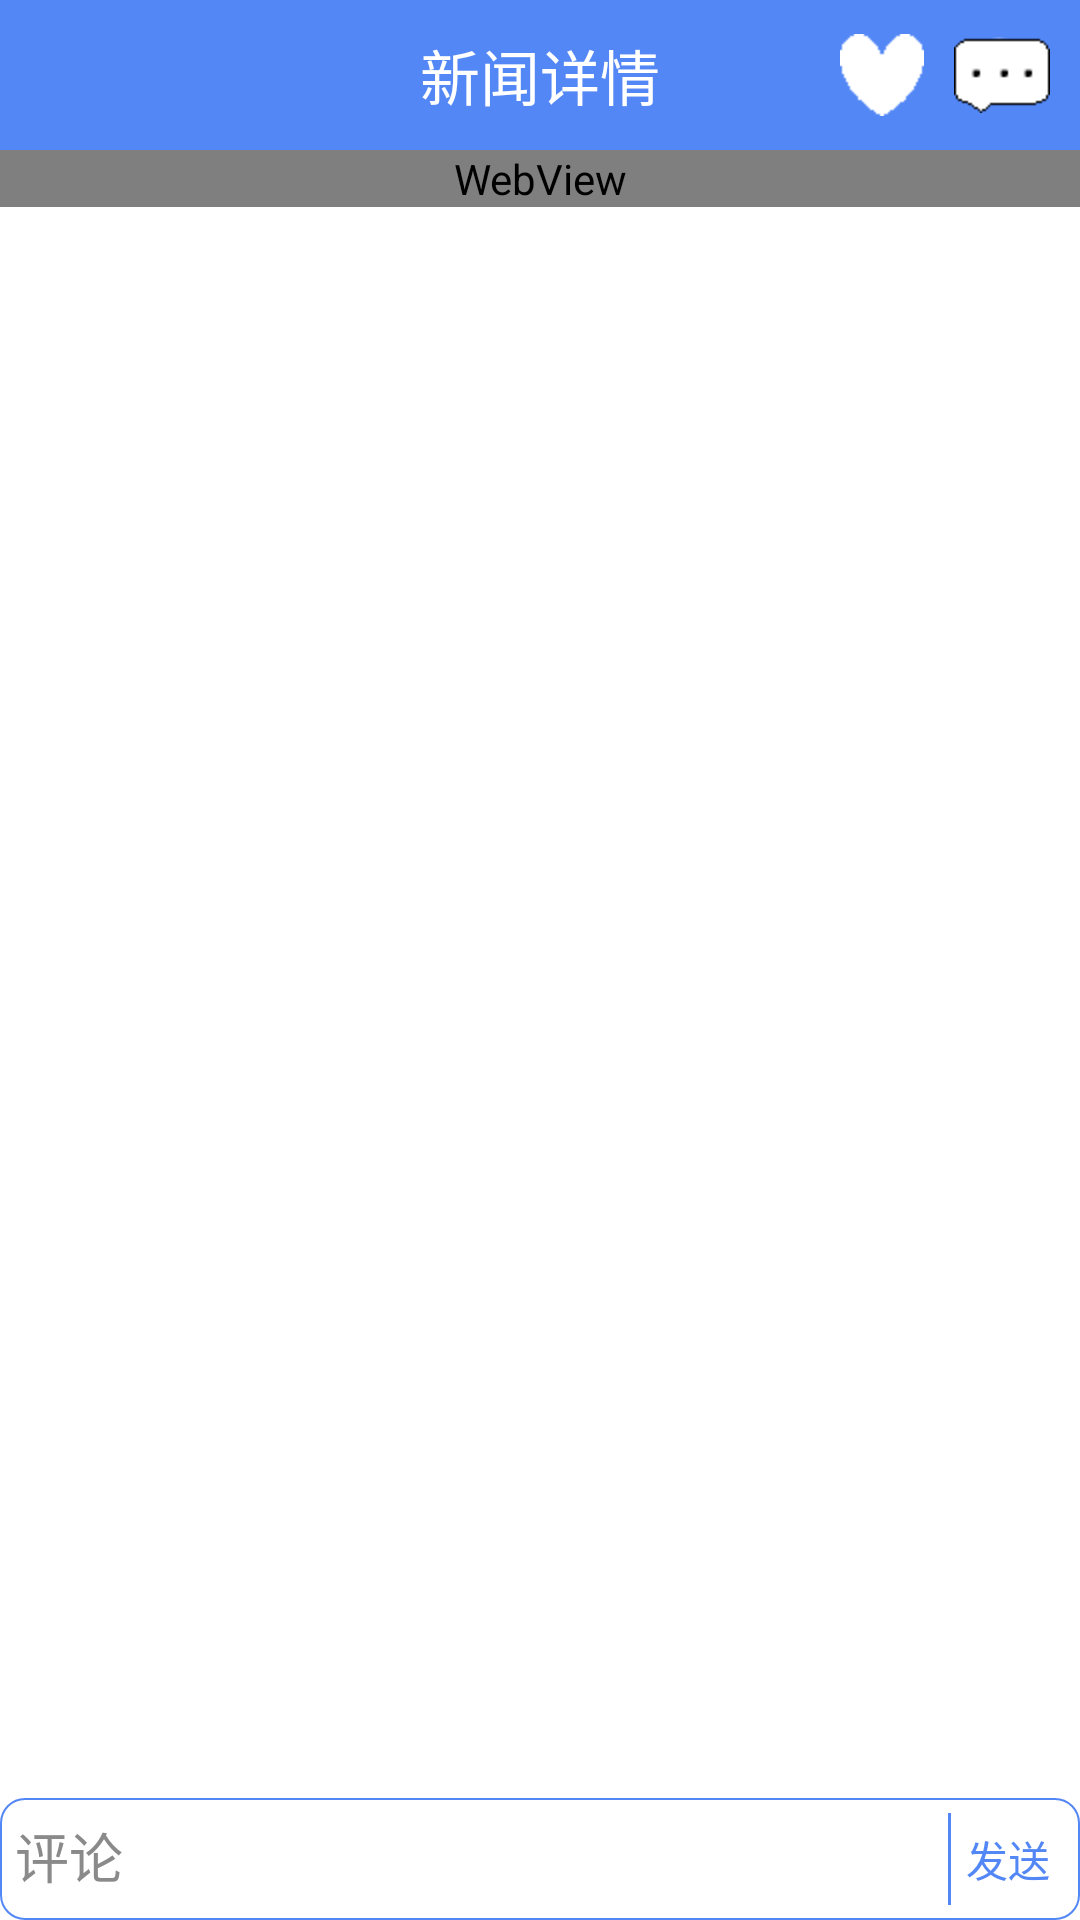

Where icons sit on this 1080 x 1920 app screen, as (x1, y1, x2, y2):
collection: (840, 34, 924, 116)
comment: (954, 37, 1050, 113)
